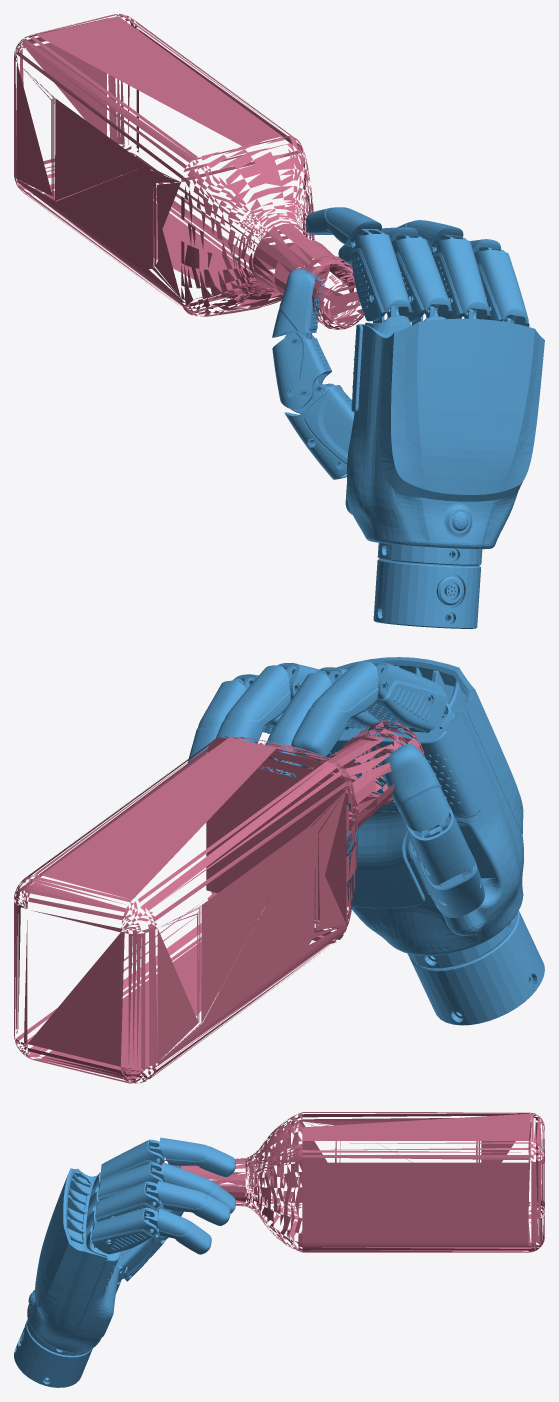
The picture shows the model from 3 angles, top to bottom: view 1: azimuth 30°, elevation 25°; view 2: azimuth 150°, elevation 25°; view 3: azimuth 270°, elevation 25°; orthographic projection. The views are drawn at different scales.
Parts seen in each view (by area): view 1: vis_all_yinshi; view 2: vis_all_yinshi; view 3: vis_all_yinshi.
Part boxes in pixels (bbox=[...]): vis_all_yinshi: bbox=[14, 14, 544, 628]; vis_all_yinshi: bbox=[14, 657, 544, 1083]; vis_all_yinshi: bbox=[14, 1112, 544, 1387].
Bounding box in the file's own units: 0.1215 × 0.1918 × 0.3702.
